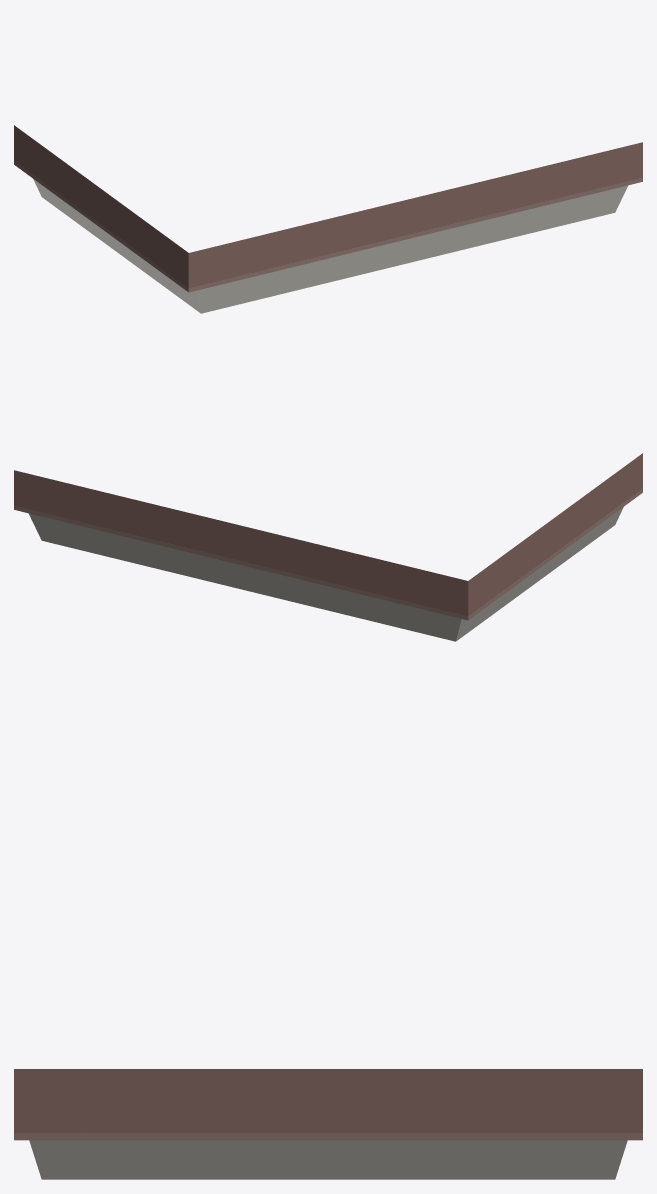
Rendered from kd_stage_135ded_4_79_exterior.glb.
The picture shows the model from 3 angles, top to bottom: view 1: azimuth 30°, elevation 25°; view 2: azimuth 150°, elevation 25°; view 3: azimuth 270°, elevation 25°; orthographic projection. The views are drawn at different scales.
Parts seen in each view (by area): view 1: kd_stage_135ded_4_79_exterior; view 2: kd_stage_135ded_4_79_exterior; view 3: kd_stage_135ded_4_79_exterior.
Part boxes in pixels (x1,y1,x2,y2): kd_stage_135ded_4_79_exterior: [14, 125, 642, 313]; kd_stage_135ded_4_79_exterior: [14, 453, 642, 641]; kd_stage_135ded_4_79_exterior: [14, 1069, 642, 1179].
Size of the model in its own units: 1.2 by 0.18 by 0.8.
1 material, 1 textured.
